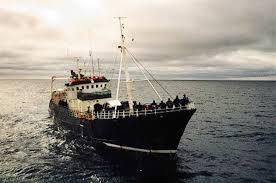Ship: (52, 19, 197, 150)
